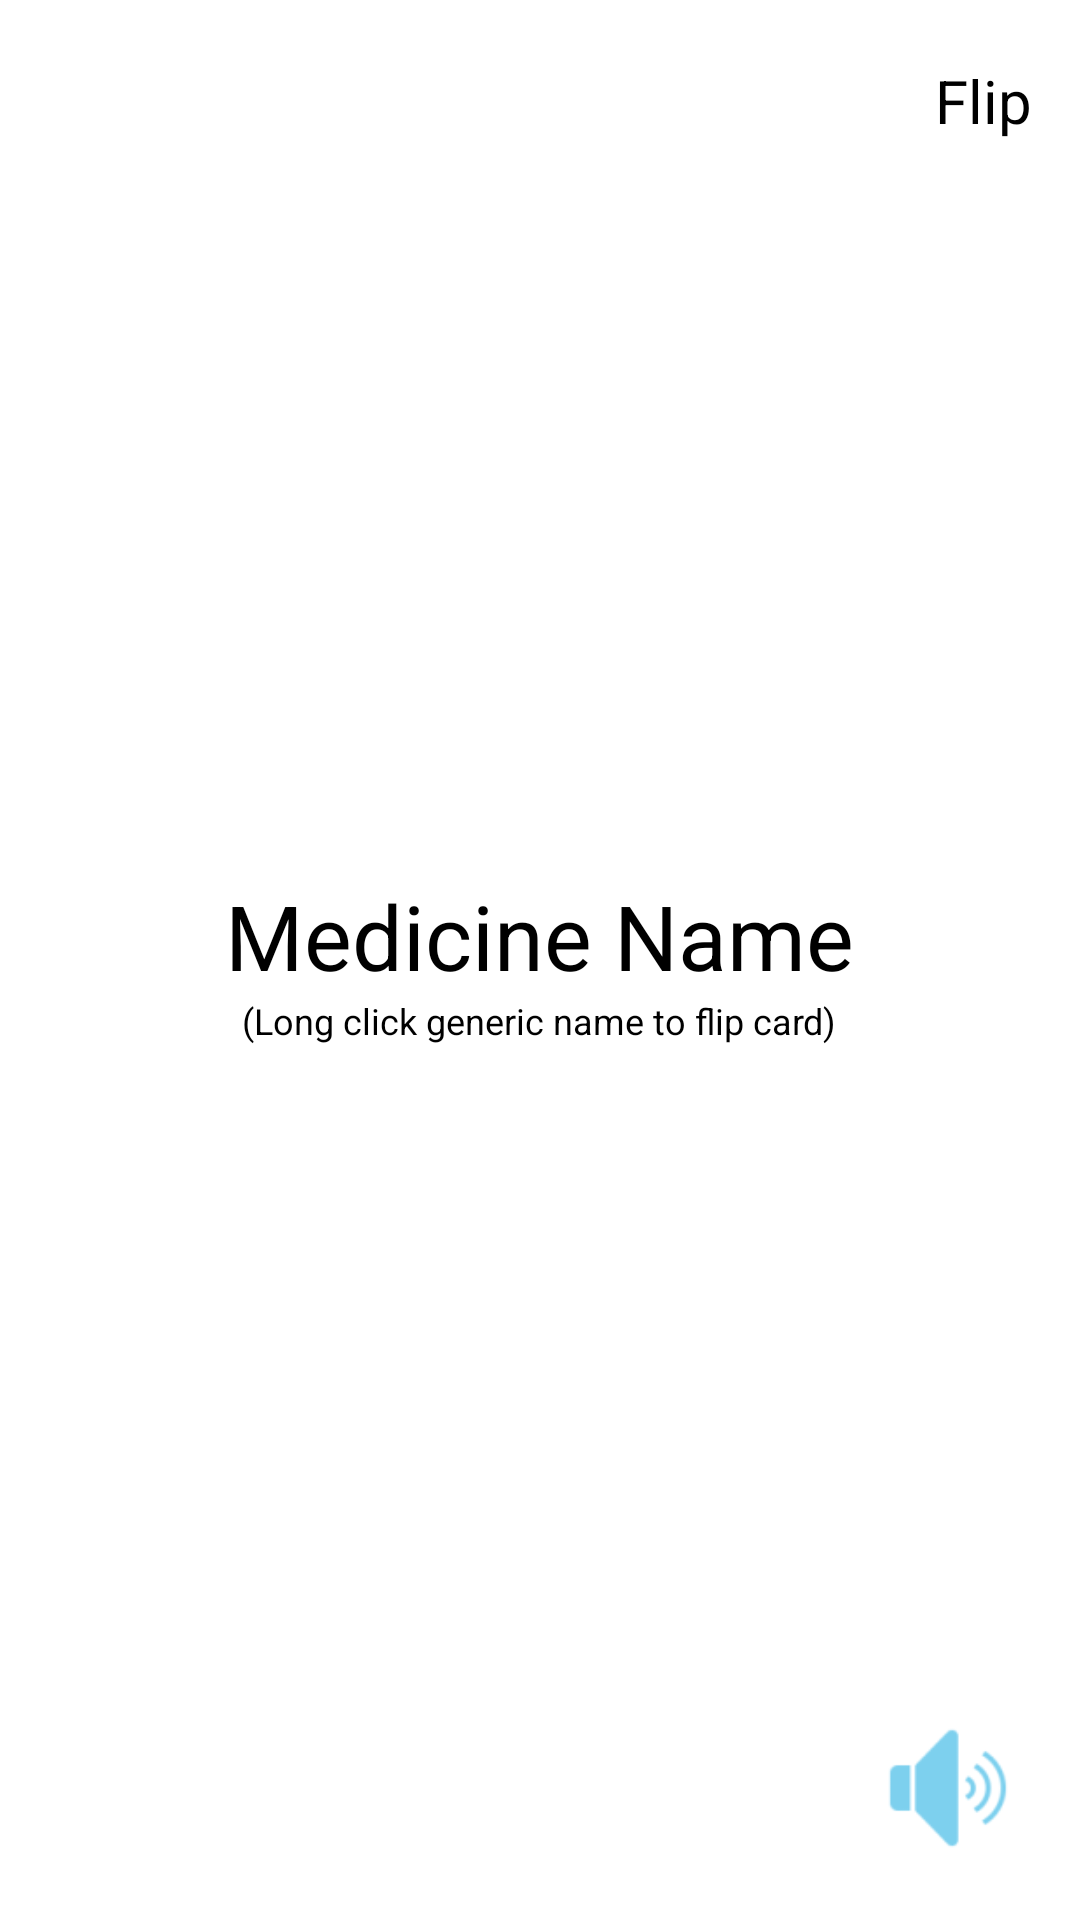

Named icons in this screenshot (1080x1920) and their centers, (x=x, y=y):
play: (x=948, y=1788)
